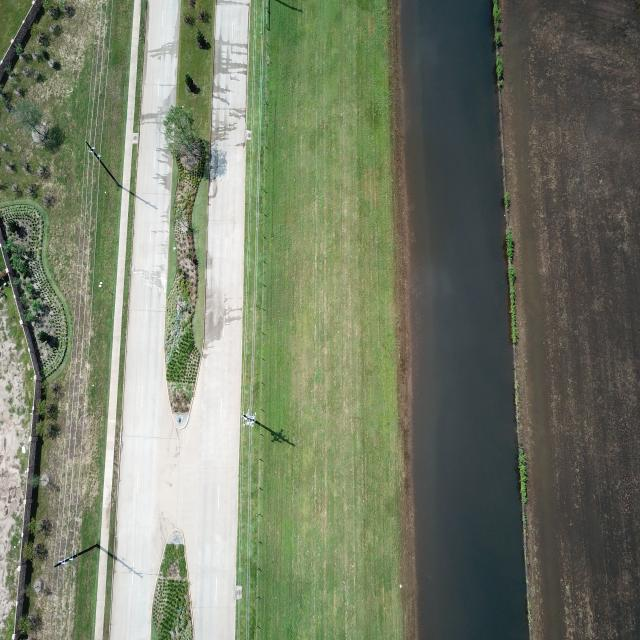fire: (400, 0, 529, 640)
